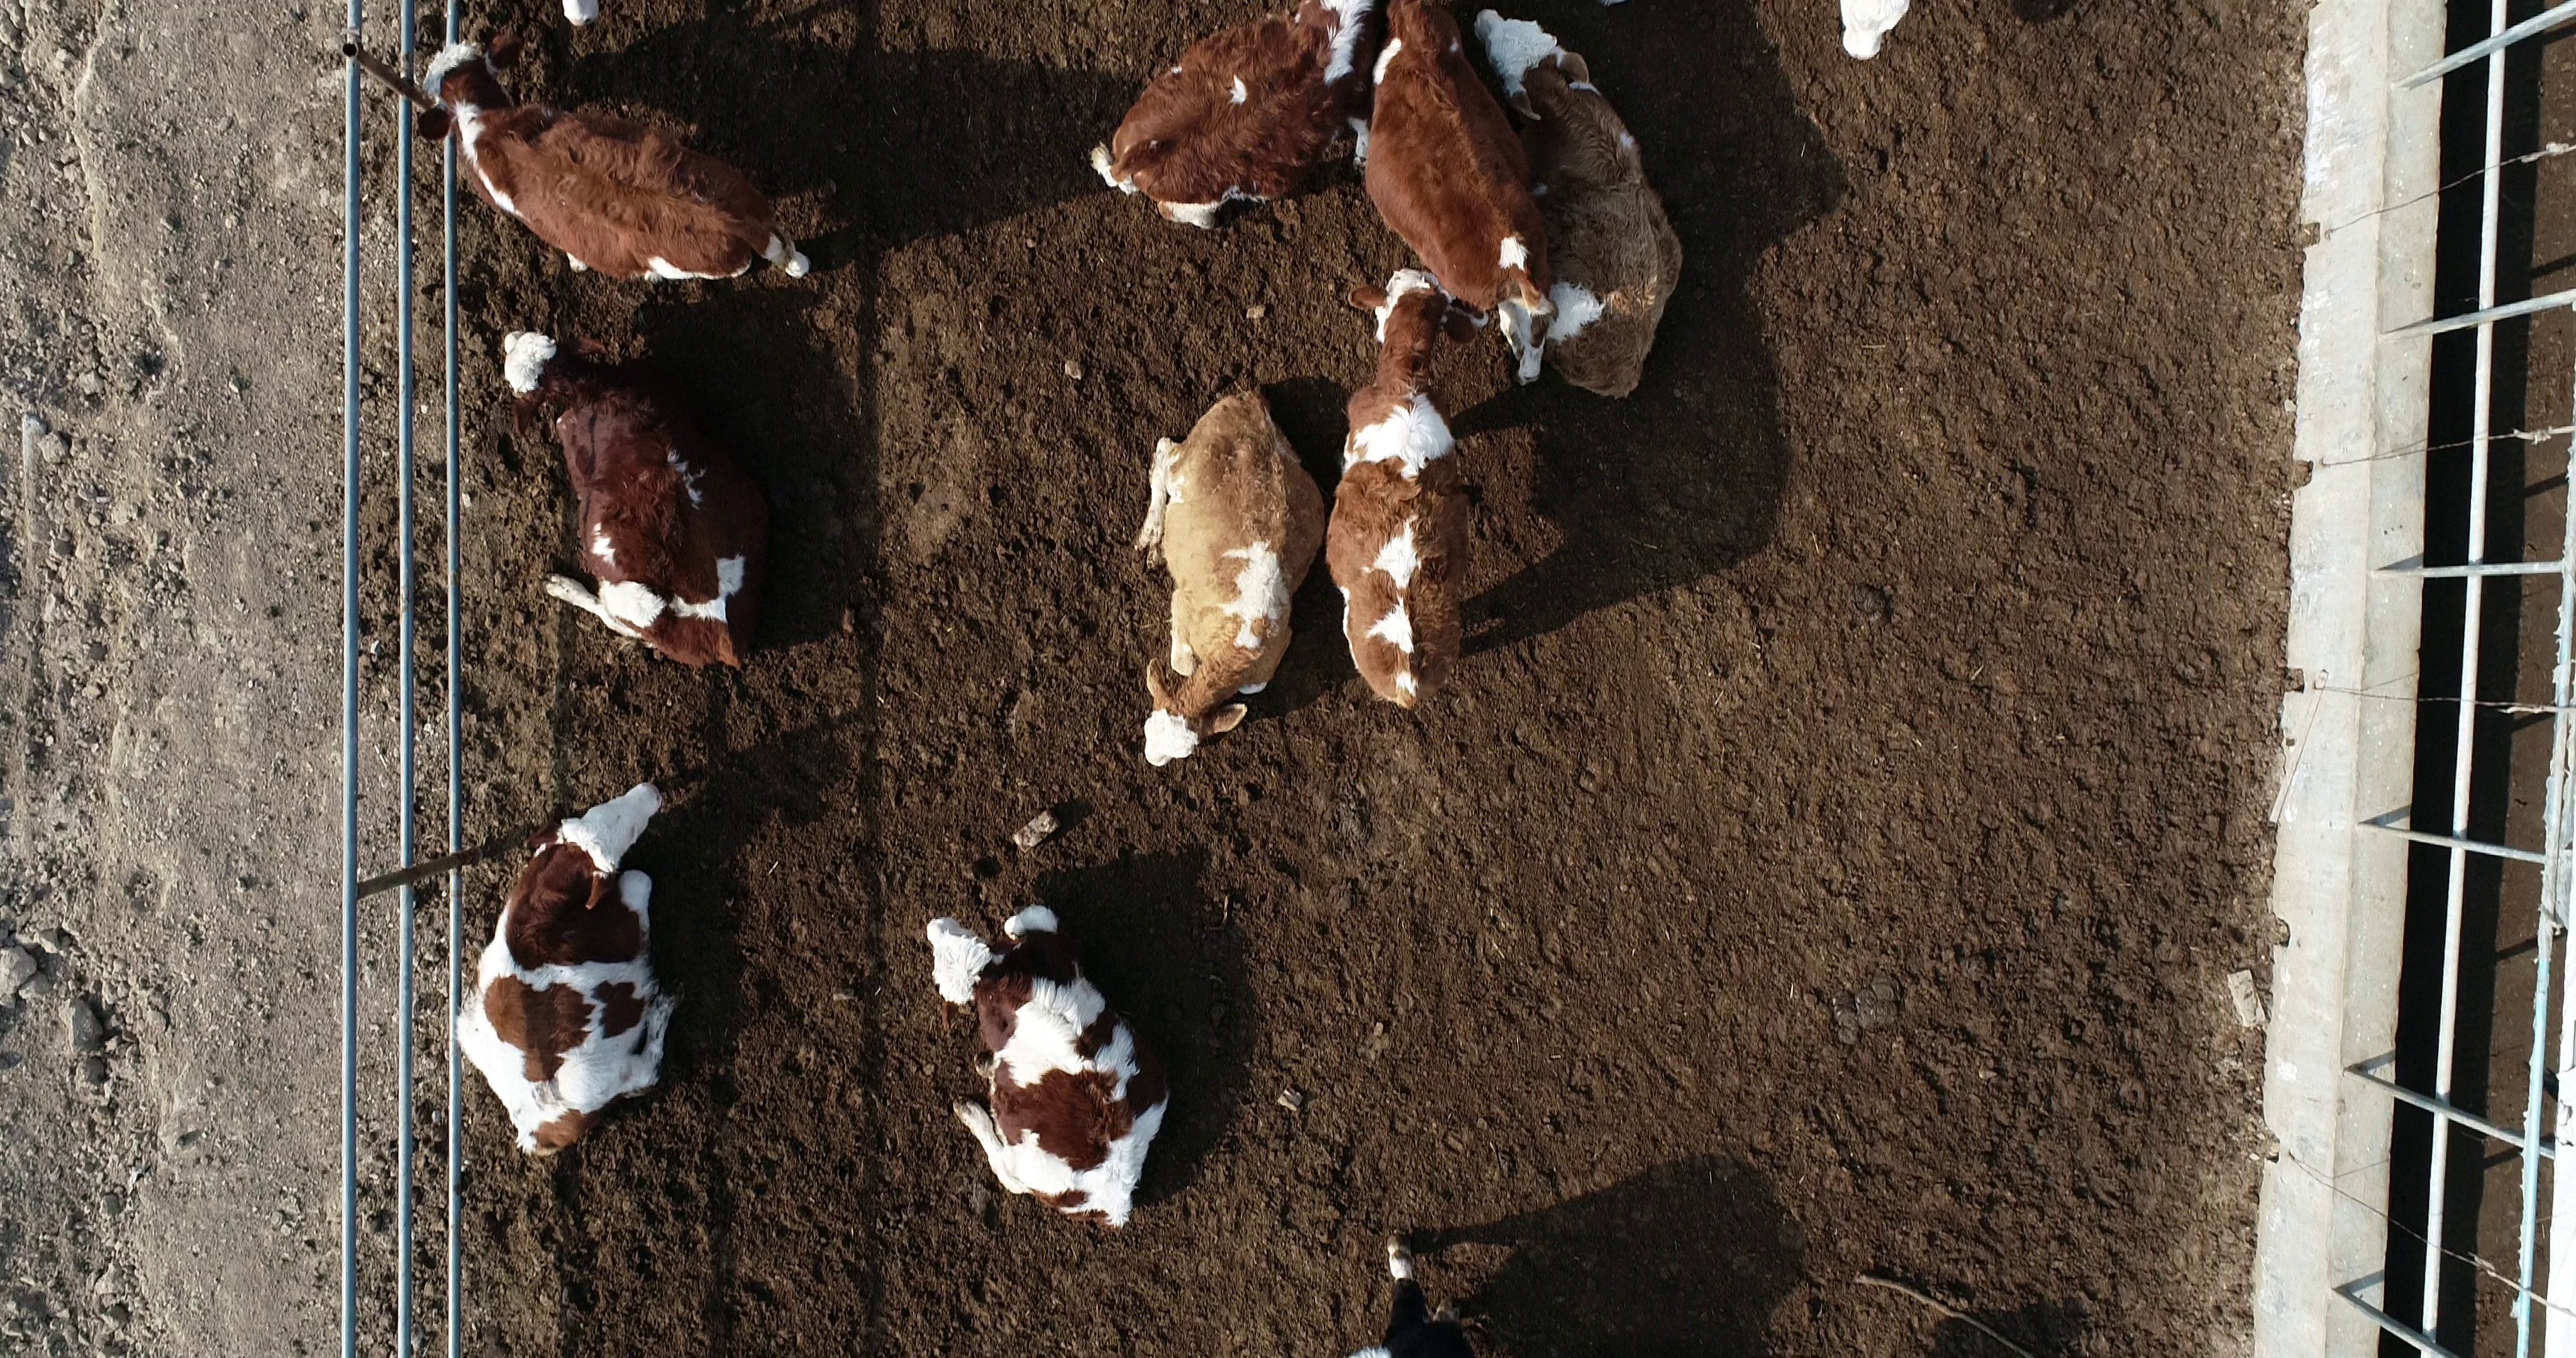cattle: (414, 29, 814, 288), (497, 320, 772, 676), (446, 772, 680, 1164), (917, 901, 1177, 1234), (1128, 387, 1334, 772), (1320, 268, 1492, 717)
